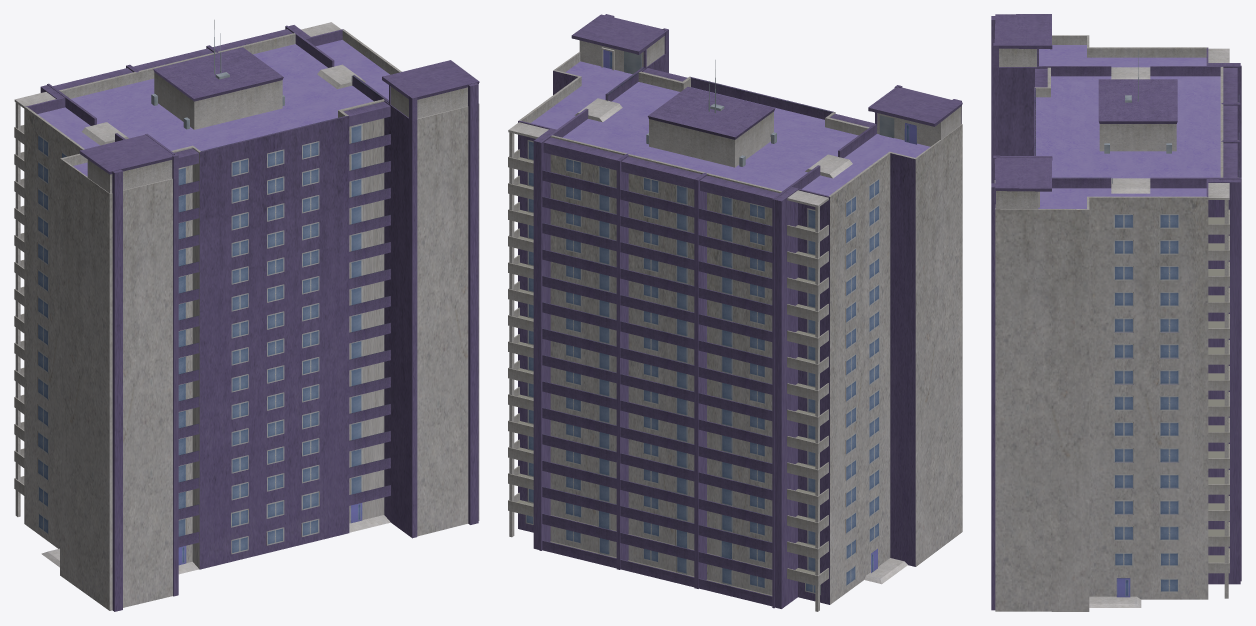
The model's file is ORB_6_Center_S15_Detail_2.fbx.
The picture shows the model from 3 angles, left to right: view 1: azimuth 30°, elevation 25°; view 2: azimuth 150°, elevation 25°; view 3: azimuth 270°, elevation 25°; orthographic projection. The views are drawn at different scales.
Visible parts, largest first — view 1: ORB_6_Center_S15_Detail_2; view 2: ORB_6_Center_S15_Detail_2; view 3: ORB_6_Center_S15_Detail_2.
Boxes of the visible parts, x1,y1,x2,y2 form: ORB_6_Center_S15_Detail_2: (14,20,479,611); ORB_6_Center_S15_Detail_2: (508,14,962,611); ORB_6_Center_S15_Detail_2: (991,14,1241,611).
Size of the model in its own units: 4197 by 5398 by 2543.
